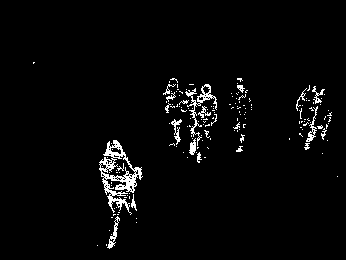person: (98, 136, 145, 251), (228, 76, 255, 156), (194, 80, 219, 166), (303, 84, 332, 153), (160, 73, 184, 147), (179, 82, 200, 157), (293, 79, 320, 136)
